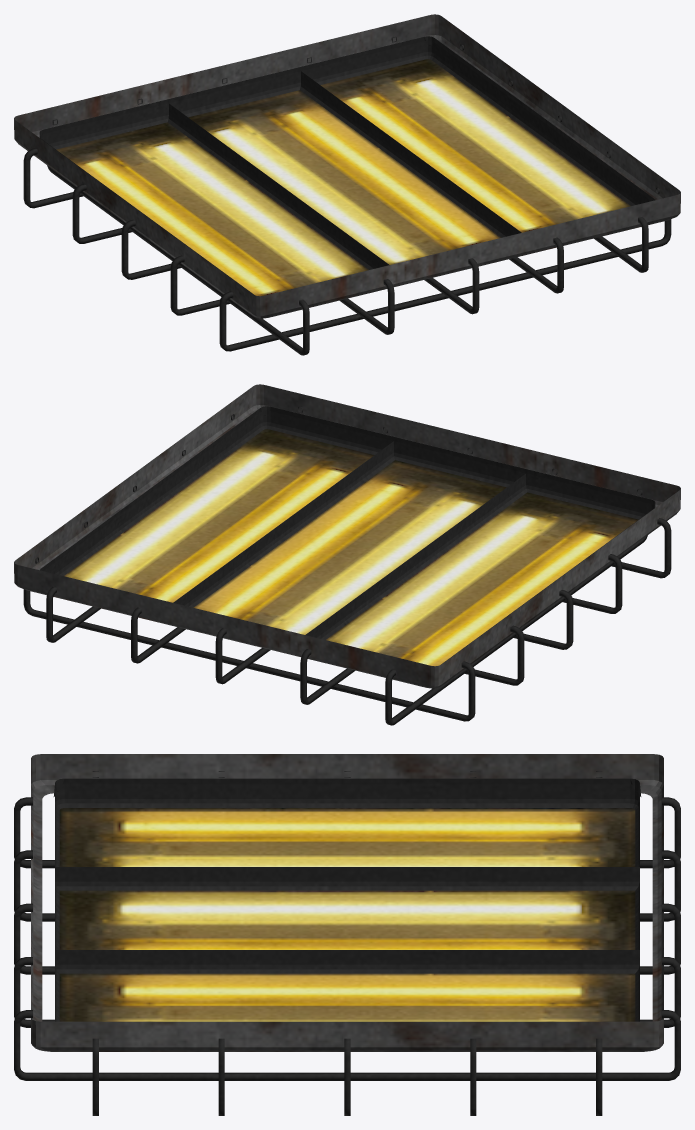
File: ceiling_lamp_1.obj
The picture shows the model from 3 angles, top to bottom: view 1: azimuth 30°, elevation 25°; view 2: azimuth 150°, elevation 25°; view 3: azimuth 270°, elevation 25°; orthographic projection. The views are drawn at different scales.
Visible parts, largest first — view 1: ceiling_lamp_1, ceiling_lamp_1_cover; view 2: ceiling_lamp_1, ceiling_lamp_1_cover; view 3: ceiling_lamp_1, ceiling_lamp_1_cover.
Part boxes in pixels (<box>): ceiling_lamp_1: <box>14,14,680,318</box>; ceiling_lamp_1_cover: <box>23,36,671,355</box>; ceiling_lamp_1: <box>14,384,680,688</box>; ceiling_lamp_1_cover: <box>23,406,671,725</box>; ceiling_lamp_1: <box>31,754,663,1051</box>; ceiling_lamp_1_cover: <box>14,771,680,1115</box>.
Bounding box in the file's own units: 1.06 × 0.16 × 1.06.
